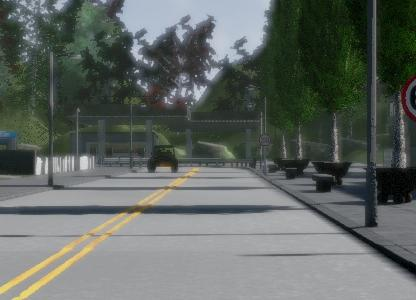Speed_60: (400, 66, 416, 126)
